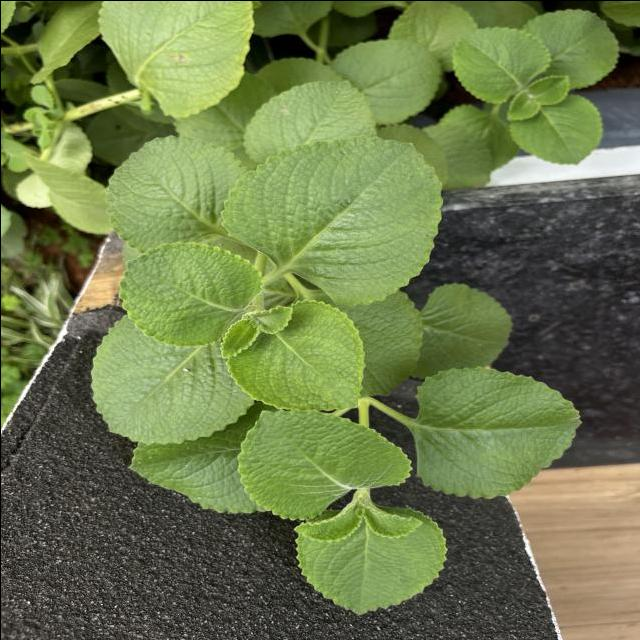Plectranthus barbatus: (218, 134, 444, 308), (412, 364, 584, 499), (88, 314, 254, 446), (235, 406, 412, 522), (96, 0, 256, 119), (102, 133, 247, 256), (289, 506, 446, 617), (224, 296, 366, 411), (117, 238, 265, 348), (240, 78, 378, 162), (329, 38, 443, 124), (417, 280, 514, 380), (520, 7, 620, 90), (450, 25, 552, 104), (508, 92, 602, 166)
